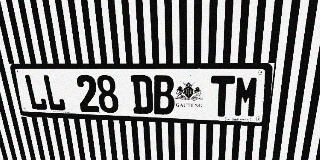2: (75, 75, 99, 112)
8: (96, 75, 119, 113)
B: (152, 75, 175, 115)
D: (130, 75, 153, 114)
L: (23, 74, 48, 111), (42, 75, 66, 111)
M: (233, 76, 260, 118)
T: (210, 76, 235, 117)
